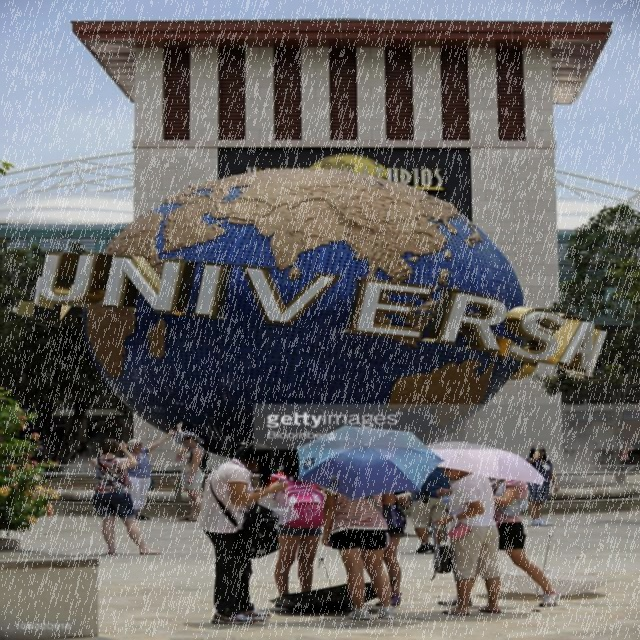pessoa: (194, 439, 290, 627), (436, 478, 564, 609), (430, 466, 506, 617), (256, 453, 328, 609), (320, 484, 400, 620), (88, 436, 166, 556), (119, 426, 178, 522), (373, 490, 415, 607), (410, 466, 452, 553), (172, 432, 212, 522), (520, 442, 560, 527), (174, 440, 198, 486), (600, 439, 616, 469), (588, 441, 600, 465), (618, 440, 634, 450)
